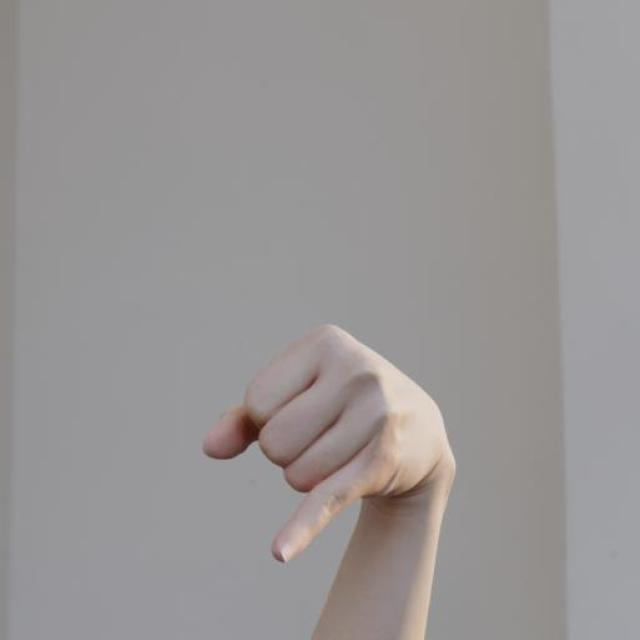J: (201, 318, 460, 570)
